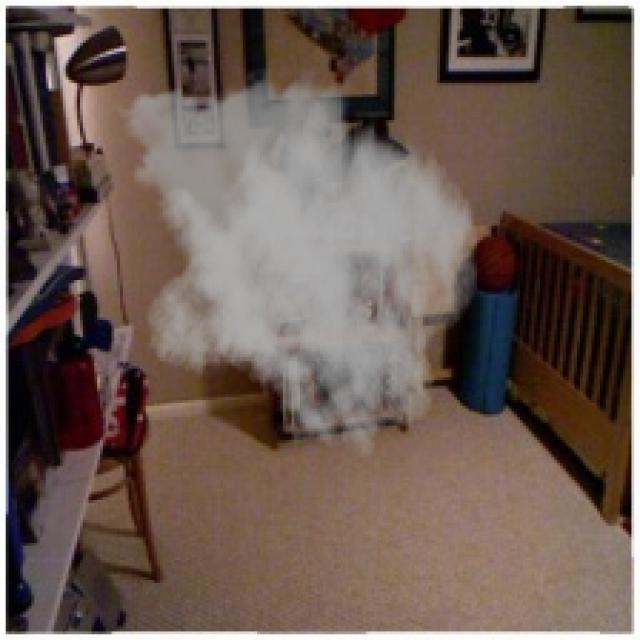smoke: (109, 66, 480, 460)
